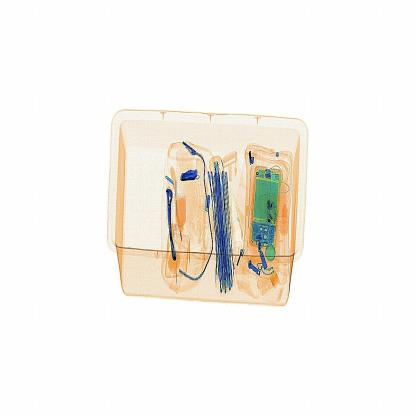knife: (178, 167, 204, 187)
